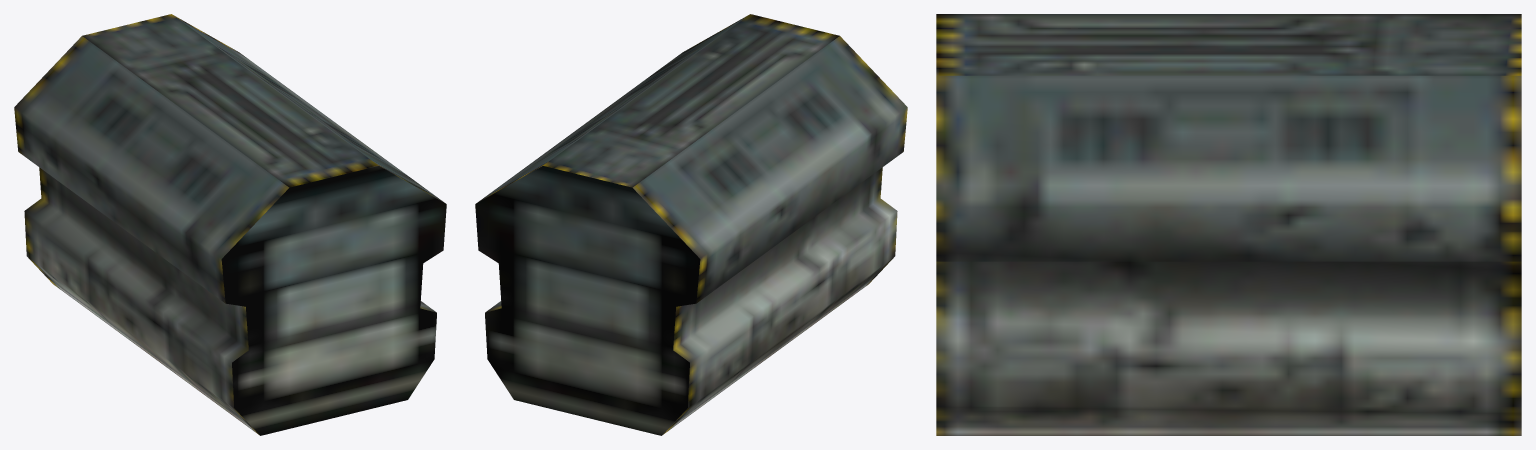
File: utl99_static.obj
3 renders of one model, left to right at view 1: azimuth 30°, elevation 25°; view 2: azimuth 150°, elevation 25°; view 3: azimuth 270°, elevation 25°, orthographic. The views are drawn at different scales.
Visible parts, largest first — view 1: frm-derelict-hull2; view 2: frm-derelict-hull2; view 3: frm-derelict-hull2.
Boxes of the visible parts, left/top/right/bottom form: frm-derelict-hull2: left=14, top=14, right=446, bottom=435; frm-derelict-hull2: left=475, top=14, right=907, bottom=435; frm-derelict-hull2: left=936, top=14, right=1521, bottom=435.
Bounding box in the file's own units: 3.59 × 3.68 × 5.73.
